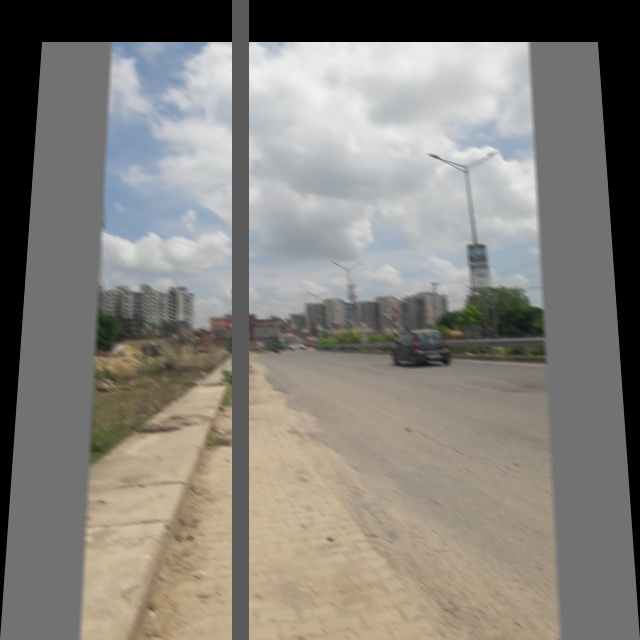Left_Reverse_Bend: (222, 311, 248, 333)
